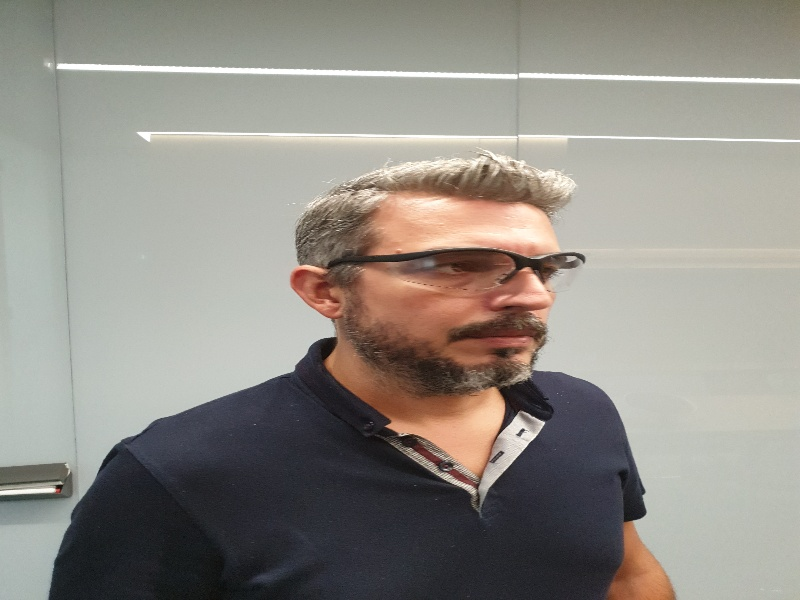Gozluk: (317, 248, 591, 294)
